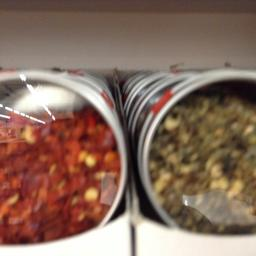spices: (0, 68, 126, 246), (136, 68, 255, 236)
